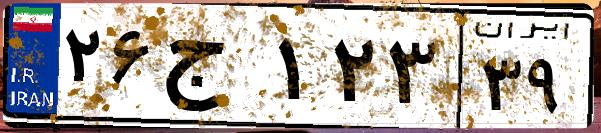1: (270, 28, 330, 110)
2: (330, 28, 385, 110), (57, 26, 110, 100)
3: (385, 28, 445, 110), (475, 38, 525, 113)
6: (110, 28, 158, 98)
9: (525, 38, 570, 115)
ج: (158, 20, 270, 120)
